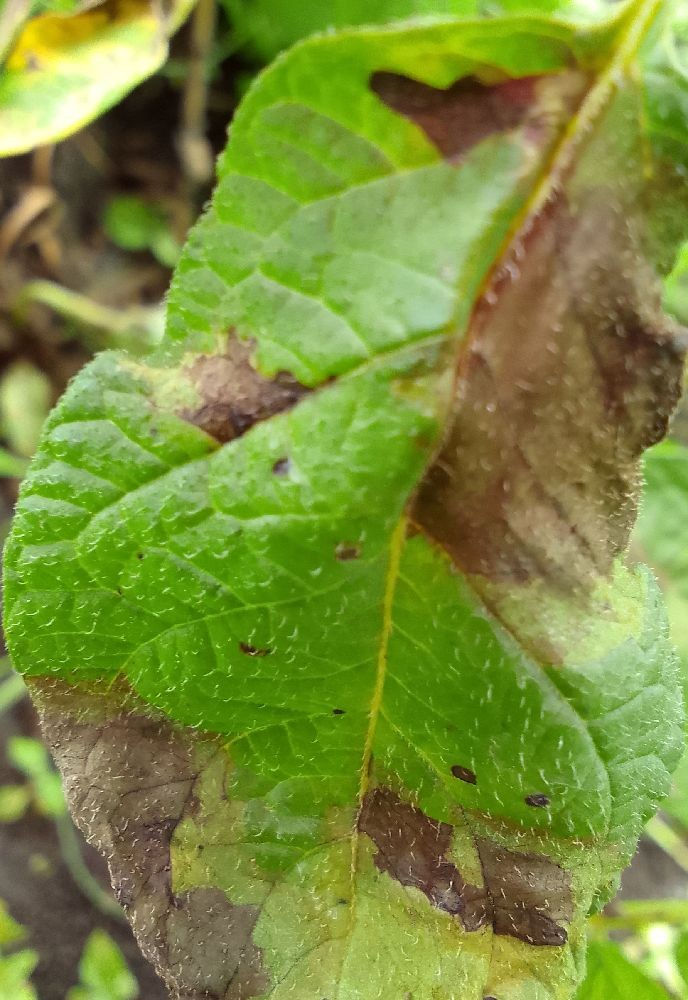late_blight: (356, 31, 687, 654), (0, 0, 290, 459), (0, 633, 308, 1000), (294, 725, 604, 984)
